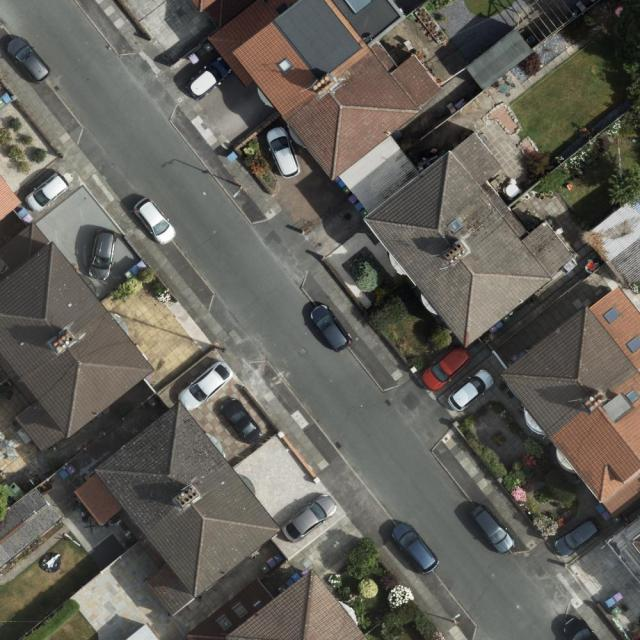roof: (189, 0, 576, 349), (72, 400, 280, 616), (0, 222, 155, 456), (501, 284, 640, 518), (187, 570, 370, 640), (0, 173, 20, 222)
skylight: (446, 217, 465, 235), (277, 57, 294, 75), (626, 390, 640, 404)
solar: (603, 306, 620, 325), (624, 335, 640, 354)
